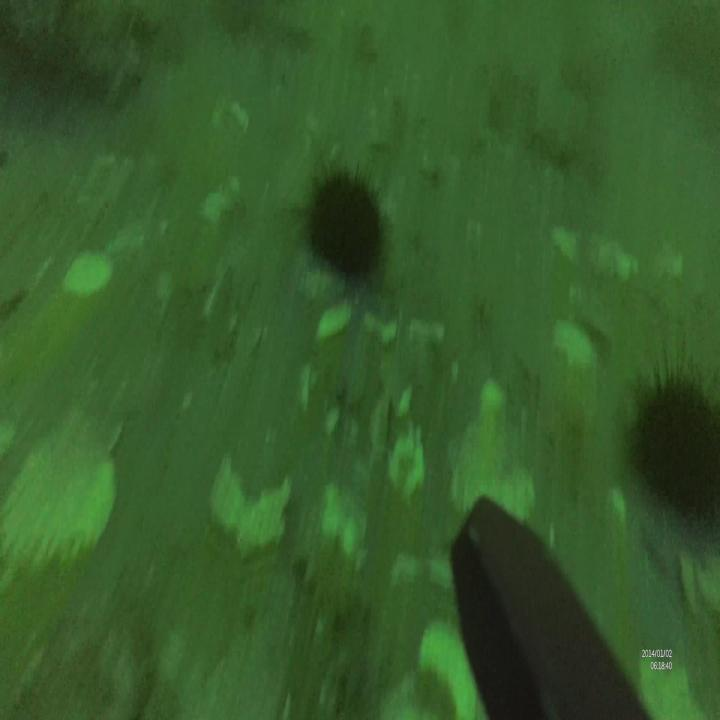echinus: (619, 331, 720, 560), (294, 157, 394, 283)
scallop: (0, 407, 121, 581), (209, 452, 292, 565)
